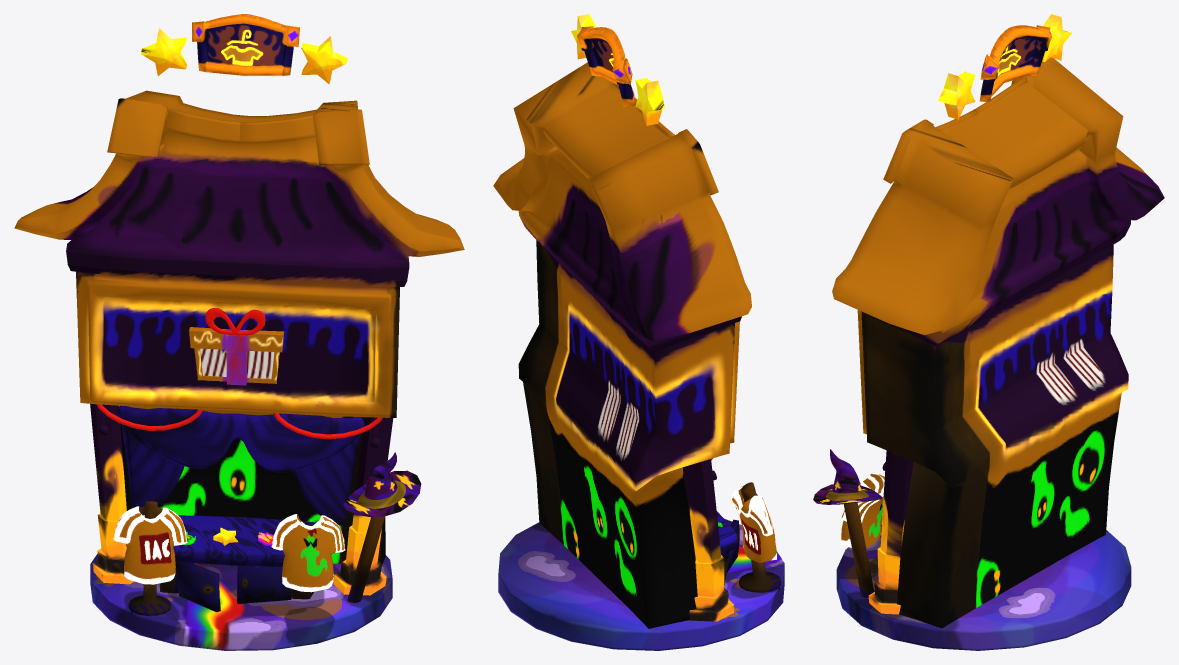
File: Empty_Group_Shop_Stand_Lvl_03.fbx
3 renders of one model, left to right at view 1: azimuth 30°, elevation 25°; view 2: azimuth 150°, elevation 25°; view 3: azimuth 270°, elevation 25°, orthographic.
Parts seen in each view (by area): view 1: Building_Shop_Stand_Lvl03, Platform_Shop_Stand_Lvl03, Table_Shop_Stand_Lvl03, Sign_Shop_Stand_Lvl03.001, Merch_Tshirt_Shop_Stand_Lvl03, Merch_Tshirt_Shop_Stand_Lvl03.002, WizardHat_Shop_Stand_Lvl03, Sign_Shop_Stand_Lvl03, Merch_Tshirt_Shop_Stand_Lvl03.001; view 2: Building_Shop_Stand_Lvl03, Platform_Shop_Stand_Lvl03, Sign_Shop_Stand_Lvl03.001, Merch_Tshirt_Shop_Stand_Lvl03.002, Sign_Shop_Stand_Lvl03, Merch_Tshirt_Shop_Stand_Lvl03.001, Table_Shop_Stand_Lvl03; view 3: Building_Shop_Stand_Lvl03, Platform_Shop_Stand_Lvl03, Sign_Shop_Stand_Lvl03.001, WizardHat_Shop_Stand_Lvl03, Sign_Shop_Stand_Lvl03, Merch_Tshirt_Shop_Stand_Lvl03.
Part boxes in pixels (x1,y1,x2,y2): Building_Shop_Stand_Lvl03: [14, 90, 464, 595]; Platform_Shop_Stand_Lvl03: [90, 554, 392, 650]; Table_Shop_Stand_Lvl03: [159, 515, 315, 612]; Sign_Shop_Stand_Lvl03.001: [192, 14, 299, 75]; Merch_Tshirt_Shop_Stand_Lvl03: [271, 514, 345, 592]; Merch_Tshirt_Shop_Stand_Lvl03.002: [113, 506, 187, 584]; WizardHat_Shop_Stand_Lvl03: [343, 452, 421, 602]; Sign_Shop_Stand_Lvl03: [140, 28, 347, 83]; Merch_Tshirt_Shop_Stand_Lvl03.001: [128, 501, 170, 615]; Building_Shop_Stand_Lvl03: [493, 62, 751, 628]; Platform_Shop_Stand_Lvl03: [498, 519, 784, 650]; Sign_Shop_Stand_Lvl03.001: [577, 26, 634, 106]; Merch_Tshirt_Shop_Stand_Lvl03.002: [732, 486, 776, 562]; Sign_Shop_Stand_Lvl03: [571, 14, 664, 125]; Merch_Tshirt_Shop_Stand_Lvl03.001: [739, 482, 781, 592]; Table_Shop_Stand_Lvl03: [716, 511, 739, 585]; Building_Shop_Stand_Lvl03: [832, 57, 1164, 628]; Platform_Shop_Stand_Lvl03: [836, 530, 1131, 650]; Sign_Shop_Stand_Lvl03.001: [979, 25, 1051, 102]; WizardHat_Shop_Stand_Lvl03: [813, 449, 882, 597]; Sign_Shop_Stand_Lvl03: [938, 14, 1071, 119]; Merch_Tshirt_Shop_Stand_Lvl03: [840, 472, 884, 547].
Bounding box in the file's own units: 1.13 × 1.75 × 0.9861.
1 material, 1 textured.
